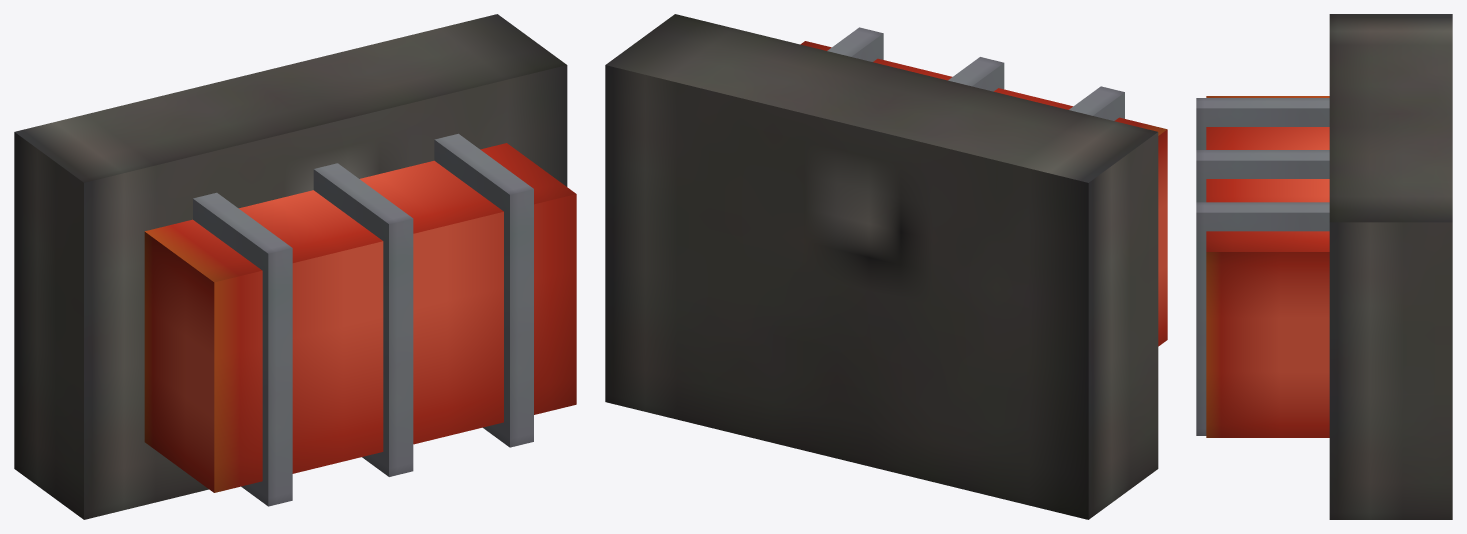
The model's file is light_red.fbx.
3 renders of one model, left to right at view 1: azimuth 30°, elevation 25°; view 2: azimuth 150°, elevation 25°; view 3: azimuth 270°, elevation 25°, orthographic. The views are drawn at different scales.
Parts seen in each view (by area): view 1: light_red; view 2: light_red; view 3: light_red.
Boxes of the visible parts, <box> form: light_red: <box>14,14,576,519</box>; light_red: <box>605,14,1167,519</box>; light_red: <box>1196,14,1452,519</box>.
Bounding box in the file's own units: 0.24 × 0.16 × 0.125.
